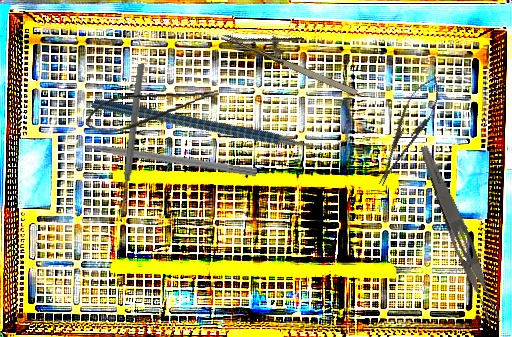Chopper: (91, 17, 348, 226)
Dressing Forceps: (411, 143, 506, 328)
Micro Scissor: (83, 85, 222, 136)
Needle Holder: (220, 6, 369, 101), (367, 69, 449, 192)
Pusher: (63, 135, 258, 178), (117, 63, 146, 217)
